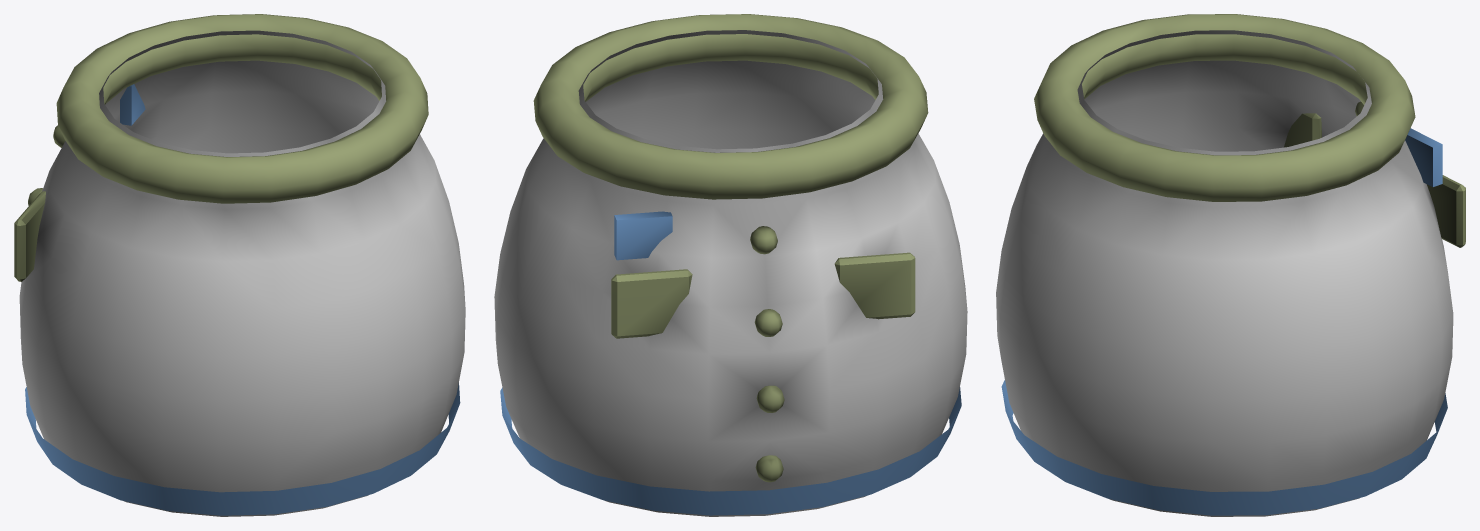
The model's file is army_jacket_blue.fbx.
The picture shows the model from 3 angles, left to right: view 1: azimuth 30°, elevation 25°; view 2: azimuth 150°, elevation 25°; view 3: azimuth 270°, elevation 25°; orthographic projection.
Parts seen in each view (by area): view 1: army_jacket_blue; view 2: army_jacket_blue; view 3: army_jacket_blue.
Boxes of the visible parts, x1=… form: army_jacket_blue: x1=14, y1=14, x2=465, y2=516; army_jacket_blue: x1=494, y1=14, x2=967, y2=516; army_jacket_blue: x1=996, y1=14, x2=1465, y2=516.
Bounding box in the file's own units: 1.49 × 1.22 × 1.5.
